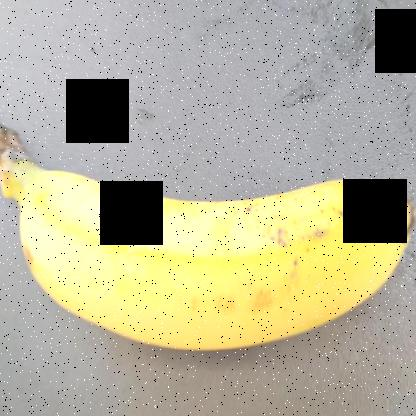ripe: (1, 130, 406, 363)
